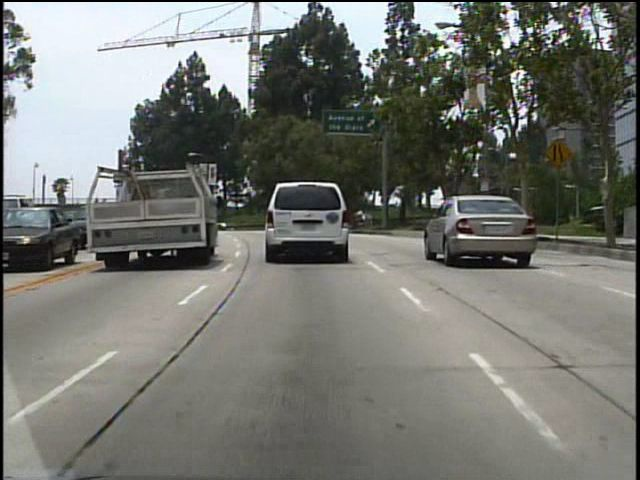person: (456, 193, 475, 236)
